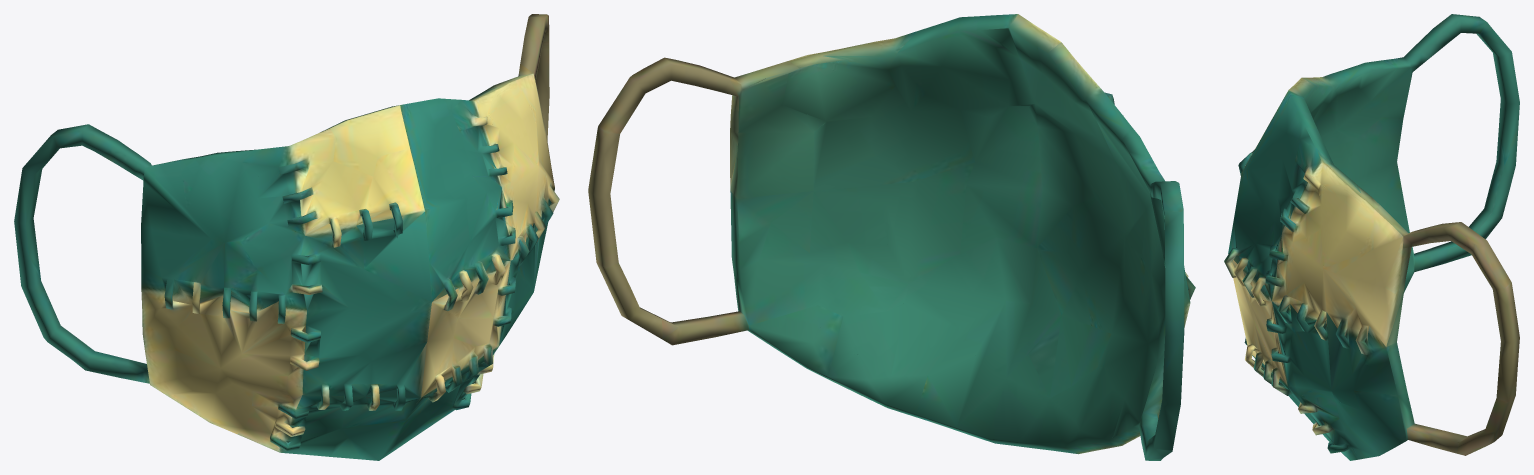
The model's file is mask_ws_cloth_idle.glb.
3 views of the same model, side by side, from view 1: azimuth 30°, elevation 25°; view 2: azimuth 150°, elevation 25°; view 3: azimuth 270°, elevation 25° (orthographic). The views are drawn at different scales.
Parts seen in each view (by area): view 1: tripo_node_226192ee-ab37-4eb1-910a-93b1b88df65a; view 2: tripo_node_226192ee-ab37-4eb1-910a-93b1b88df65a; view 3: tripo_node_226192ee-ab37-4eb1-910a-93b1b88df65a.
Part boxes in pixels (<box>): tripo_node_226192ee-ab37-4eb1-910a-93b1b88df65a: <box>14,14,559,460</box>; tripo_node_226192ee-ab37-4eb1-910a-93b1b88df65a: <box>588,14,1195,460</box>; tripo_node_226192ee-ab37-4eb1-910a-93b1b88df65a: <box>1224,14,1519,460</box>.
Bounding box in the file's own units: 0.22 × 0.1457 × 0.1116.
Materials: 1 (1 with a texture image).
